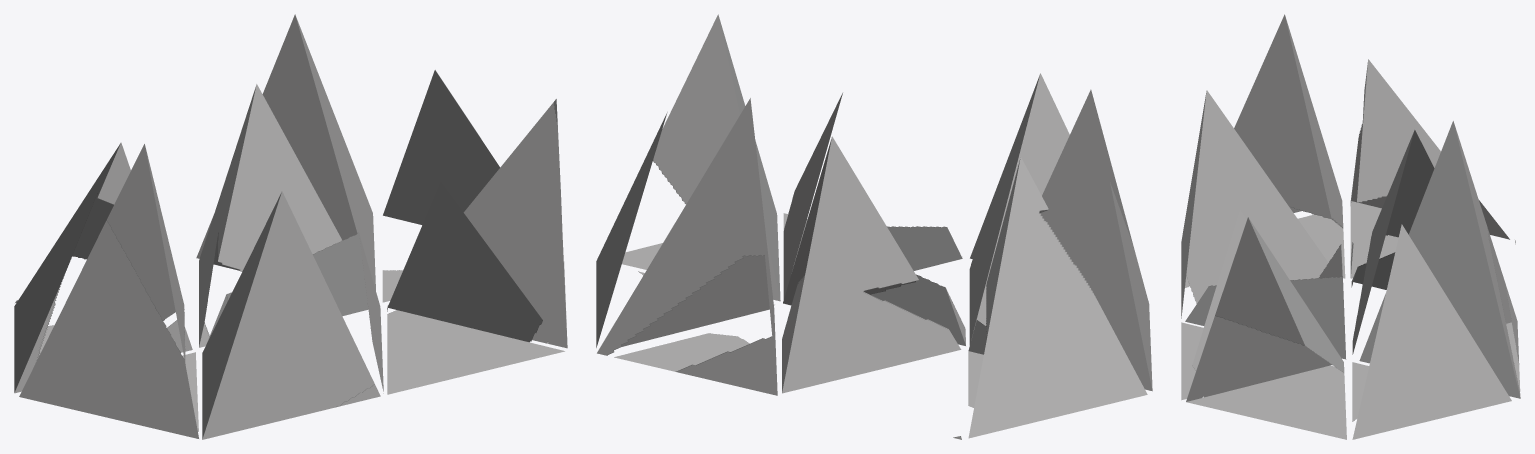
Rendered from pinchos.fbx.
3 views of the same model, side by side, from view 1: azimuth 30°, elevation 25°; view 2: azimuth 150°, elevation 25°; view 3: azimuth 270°, elevation 25° (orthographic). The views are drawn at different scales.
Visible parts, largest first — view 1: Cone; view 2: Cone; view 3: Cone.
Part boxes in pixels (box(x1,y1,x2,y2)): Cone: box(14, 14, 567, 439); Cone: box(596, 14, 1152, 439); Cone: box(1181, 14, 1520, 439).
Bounding box in the file's own units: 532 × 236 × 319.
